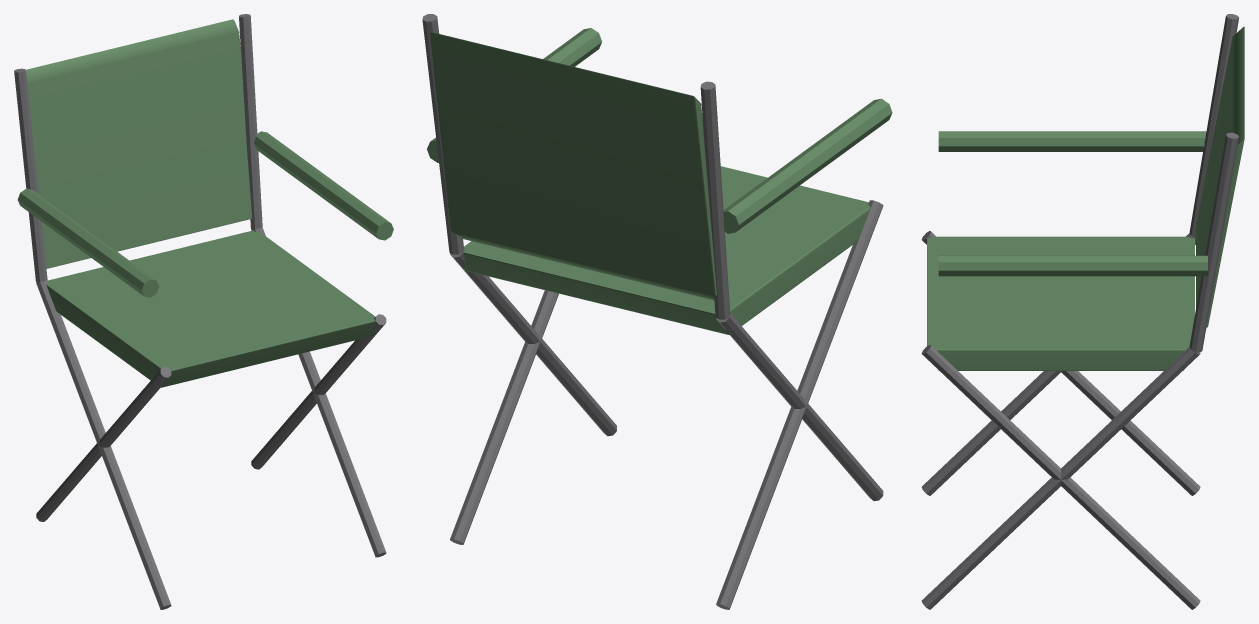
File: seat_chair.glb
3 views of the same model, side by side, from view 1: azimuth 30°, elevation 25°; view 2: azimuth 150°, elevation 25°; view 3: azimuth 270°, elevation 25° (orthographic). The views are drawn at different scales.
Parts seen in each view (by area): view 1: SM_seat_chair; view 2: SM_seat_chair; view 3: SM_seat_chair.
Part boxes in pixels (x1,y1,x2,y2): SM_seat_chair: [14, 14, 393, 609]; SM_seat_chair: [422, 14, 892, 609]; SM_seat_chair: [921, 14, 1244, 609].
Bounding box in the file's own units: 0.516 × 0.8593 × 0.5274.
